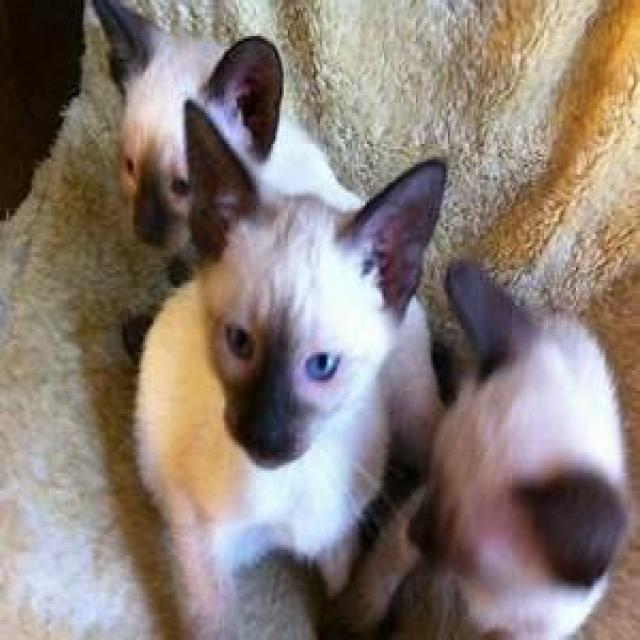animal: (124, 94, 454, 638), (315, 252, 640, 640), (82, 0, 378, 259)
